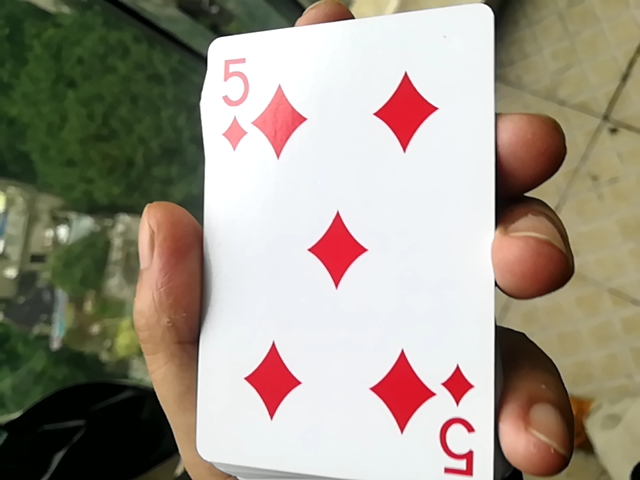fk 5: (179, 2, 499, 478)
